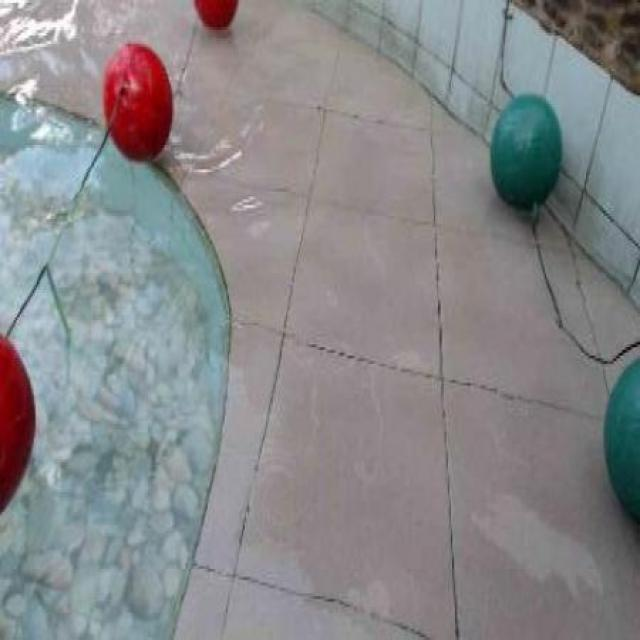buoy: (489, 92, 563, 210), (104, 41, 173, 161), (602, 358, 638, 528), (0, 332, 34, 510)
